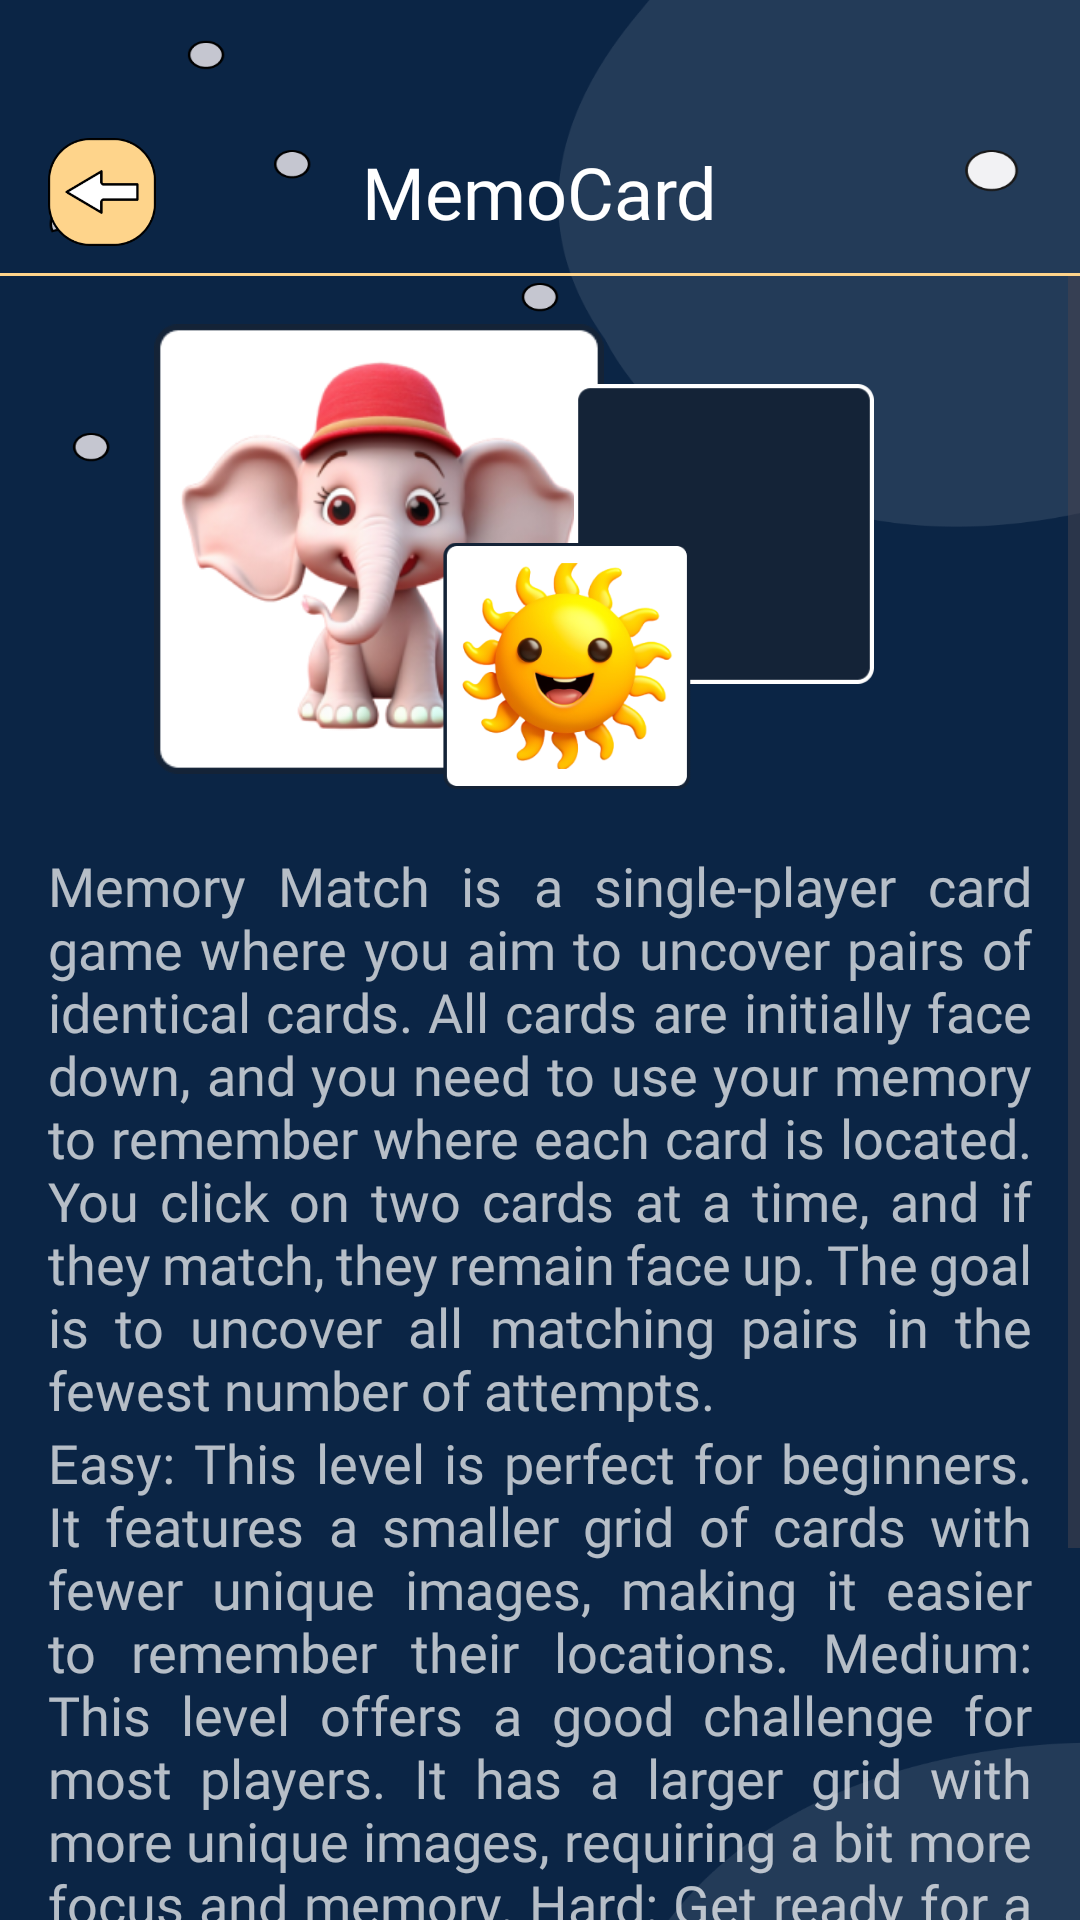

Where icons sit on this 1080*1920 app screen, as [left=x1, top=y1, right=x2, bottom=y2]:
nazad: [left=48, top=138, right=156, bottom=246]
